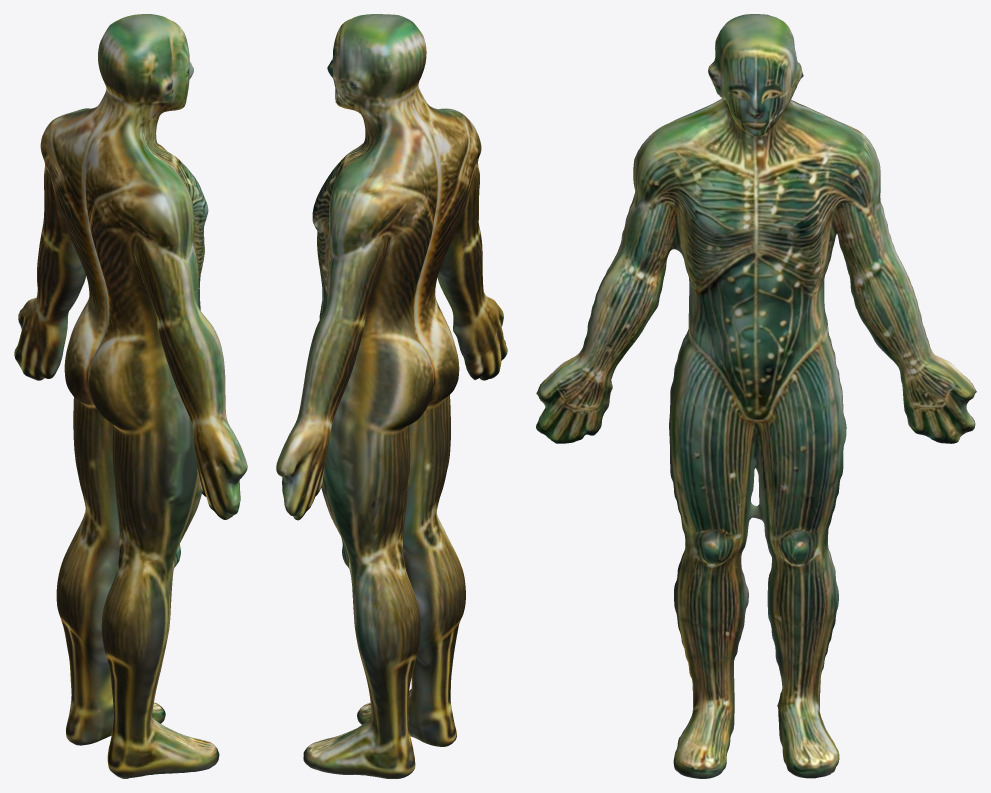
Rendered from meridian_map_3d.glb.
3 views of the same model, side by side, from view 1: azimuth 30°, elevation 25°; view 2: azimuth 150°, elevation 25°; view 3: azimuth 270°, elevation 25° (orthographic).
Visible parts, largest first — view 1: tripo_node_5ad93af5-b9b7-40d4-8073-c8a5a27cb588; view 2: tripo_node_5ad93af5-b9b7-40d4-8073-c8a5a27cb588; view 3: tripo_node_5ad93af5-b9b7-40d4-8073-c8a5a27cb588.
Boxes of the visible parts, x1,y1,x2,y2 form: tripo_node_5ad93af5-b9b7-40d4-8073-c8a5a27cb588: [14, 14, 247, 778]; tripo_node_5ad93af5-b9b7-40d4-8073-c8a5a27cb588: [276, 14, 507, 778]; tripo_node_5ad93af5-b9b7-40d4-8073-c8a5a27cb588: [536, 14, 976, 778].
Bounding box in the file's own units: 0.1546 × 0.9385 × 0.5062.
1 material, 1 textured.
